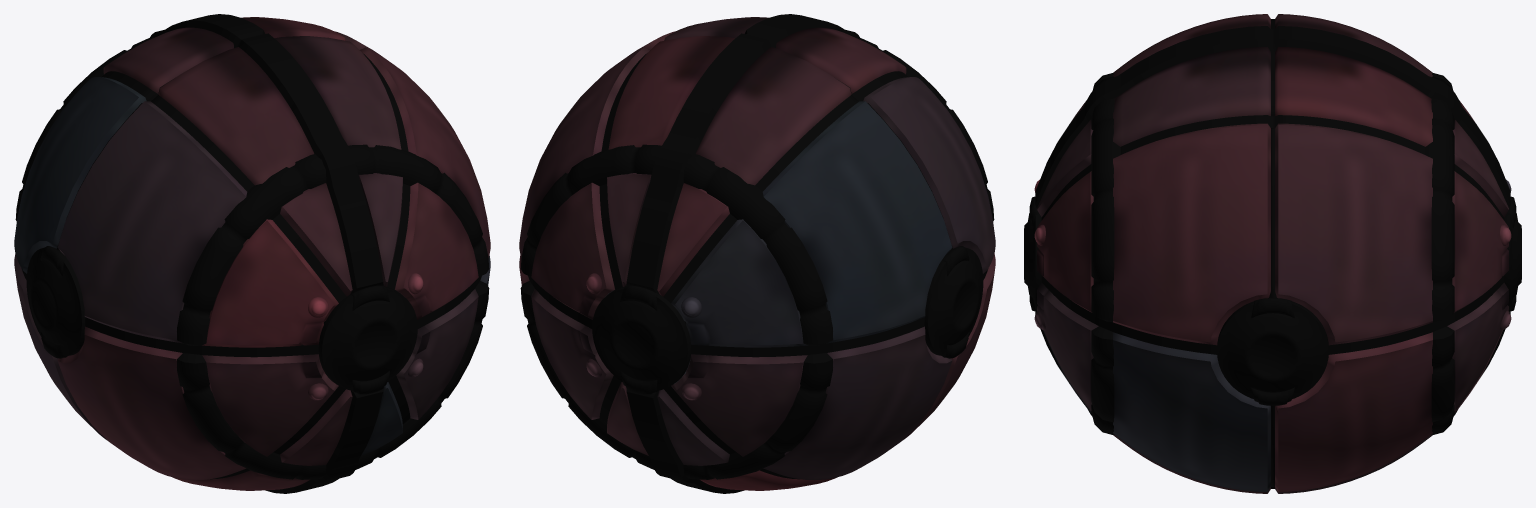
File: Ball_Breakout_SM.glb
3 renders of one model, left to right at view 1: azimuth 30°, elevation 25°; view 2: azimuth 150°, elevation 25°; view 3: azimuth 270°, elevation 25°, orthographic.
Parts seen in each view (by area): view 1: Ball_Breakout_SM_0; view 2: Ball_Breakout_SM_0; view 3: Ball_Breakout_SM_0.
Boxes of the visible parts, left/top/right/bottom form: Ball_Breakout_SM_0: left=14, top=14, right=490, bottom=493; Ball_Breakout_SM_0: left=519, top=14, right=995, bottom=493; Ball_Breakout_SM_0: left=1024, top=14, right=1521, bottom=493.
Bounding box in the file's own units: 1.95 × 1.97 × 2.
Materials: 1 (1 with a texture image).
